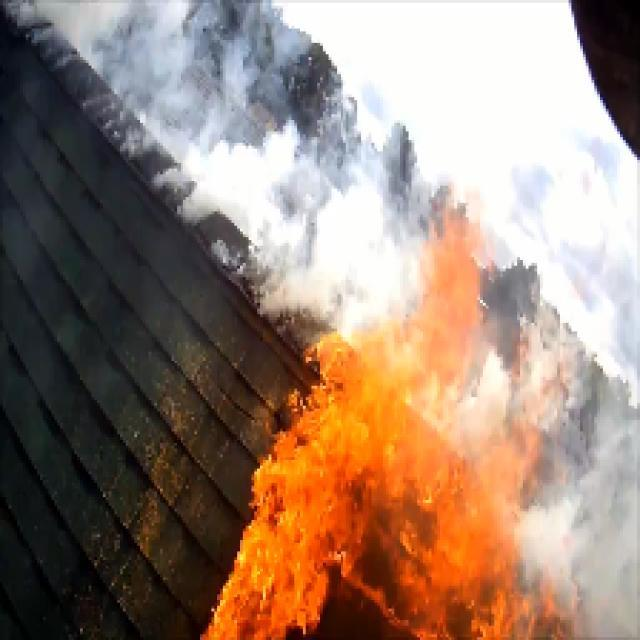Fire: (360, 10, 586, 225), (278, 368, 466, 624)
Smoke: (120, 9, 292, 188)
